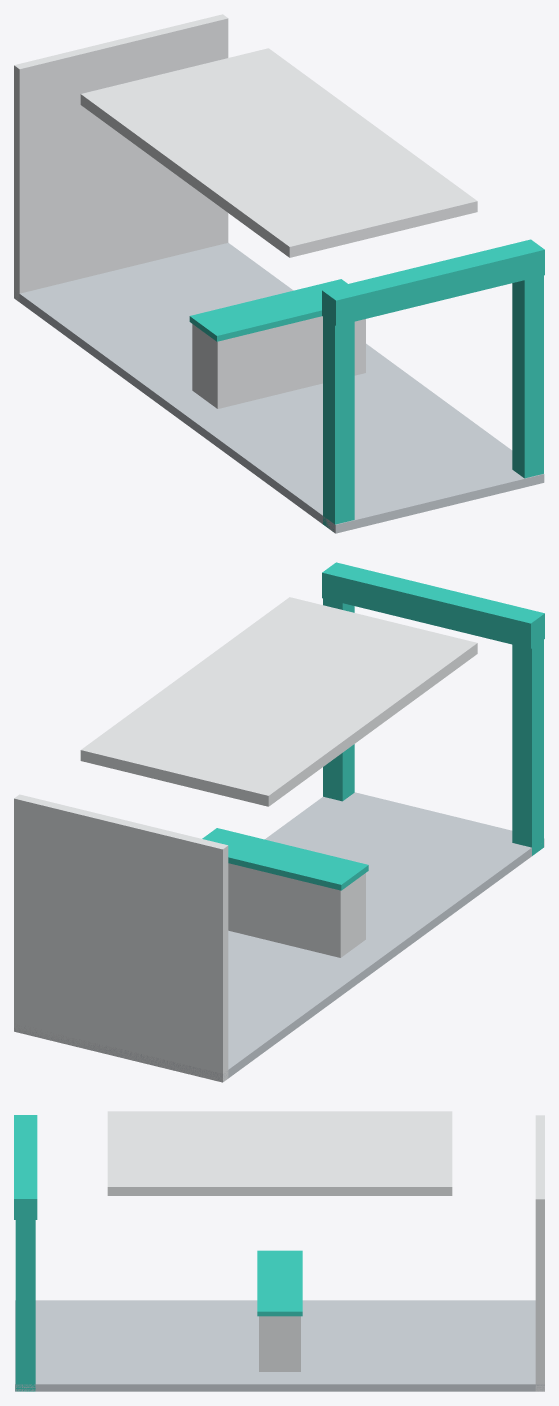
3 views of the same model, one above another, from view 1: azimuth 30°, elevation 25°; view 2: azimuth 150°, elevation 25°; view 3: azimuth 270°, elevation 25° (orthographic). The views are drawn at different scales.
Parts seen in each view (by area): view 1: Exhibition Booth Concept; view 2: Exhibition Booth Concept; view 3: Exhibition Booth Concept.
Part boxes in pixels (x1,y1,x2,y2): Exhibition Booth Concept: (14, 14, 544, 533); Exhibition Booth Concept: (14, 562, 544, 1082); Exhibition Booth Concept: (14, 1111, 544, 1391).
Size of the model in its own units: 3 by 3.34 by 8.01.
